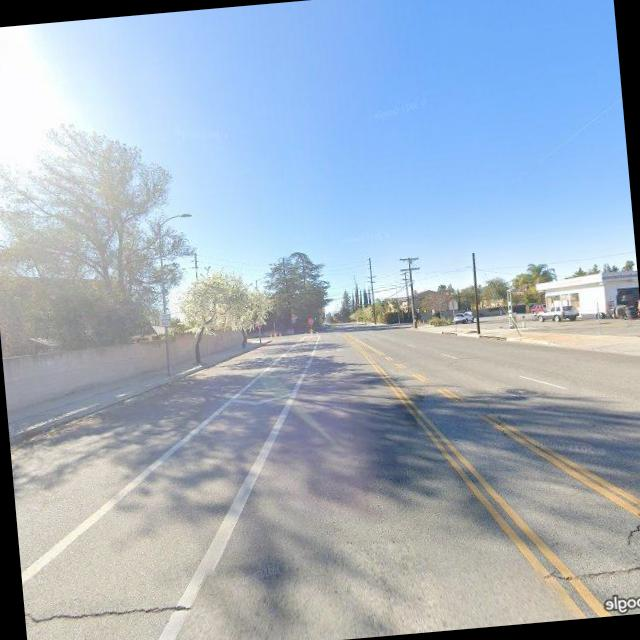crack: (22, 568, 206, 633), (534, 551, 640, 590), (614, 480, 640, 545)
